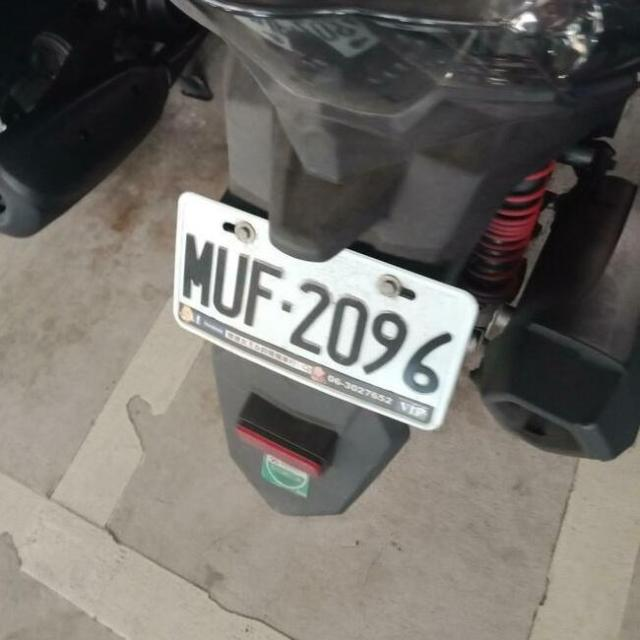W: (150, 196, 494, 435)
